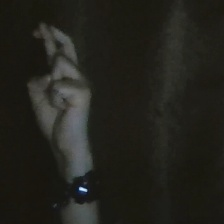R: (18, 15, 105, 161)
